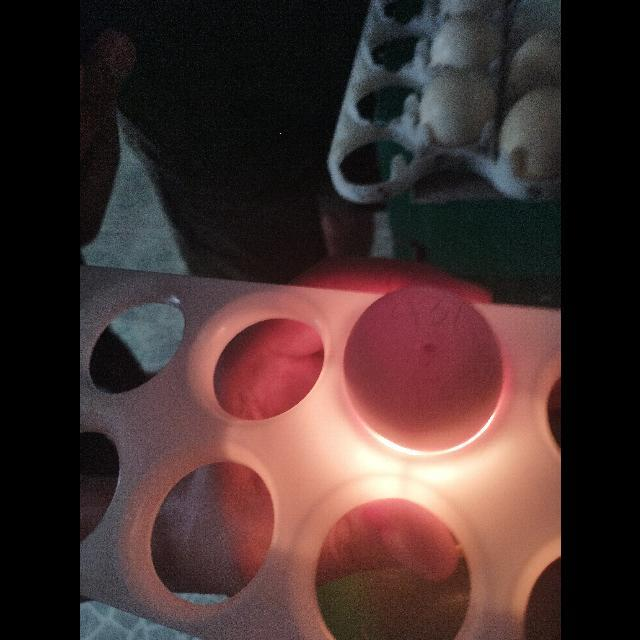Fertile: (339, 282, 507, 456)
